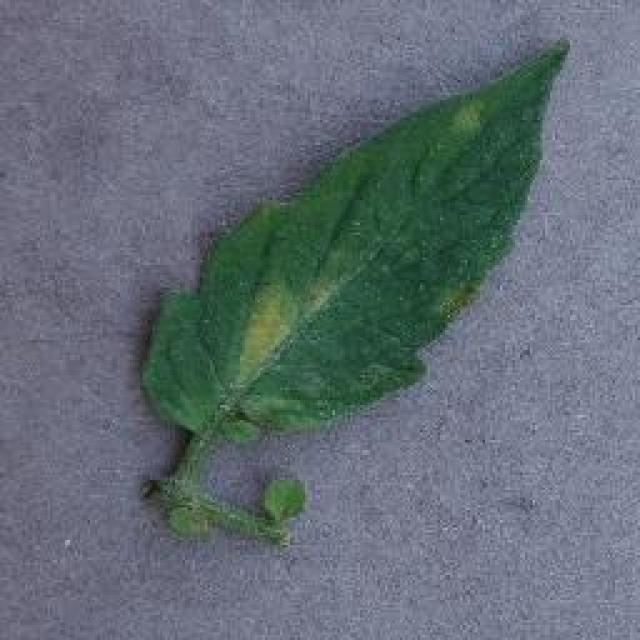Tomato___Leaf_Mold: (142, 40, 568, 545)
